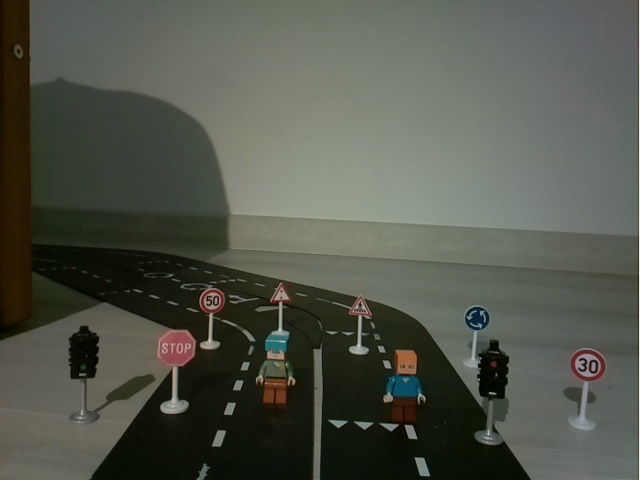green light: (63, 324, 106, 426)
limit 30: (565, 345, 609, 438)
limit 50: (199, 285, 229, 351)
pedestrian sign: (346, 293, 375, 360)
person: (381, 343, 431, 431)
red light: (481, 341, 518, 448)
round: (465, 301, 490, 340)
second person: (251, 331, 299, 408)
stop: (155, 328, 198, 417)
traffic light sign: (269, 280, 292, 333)
